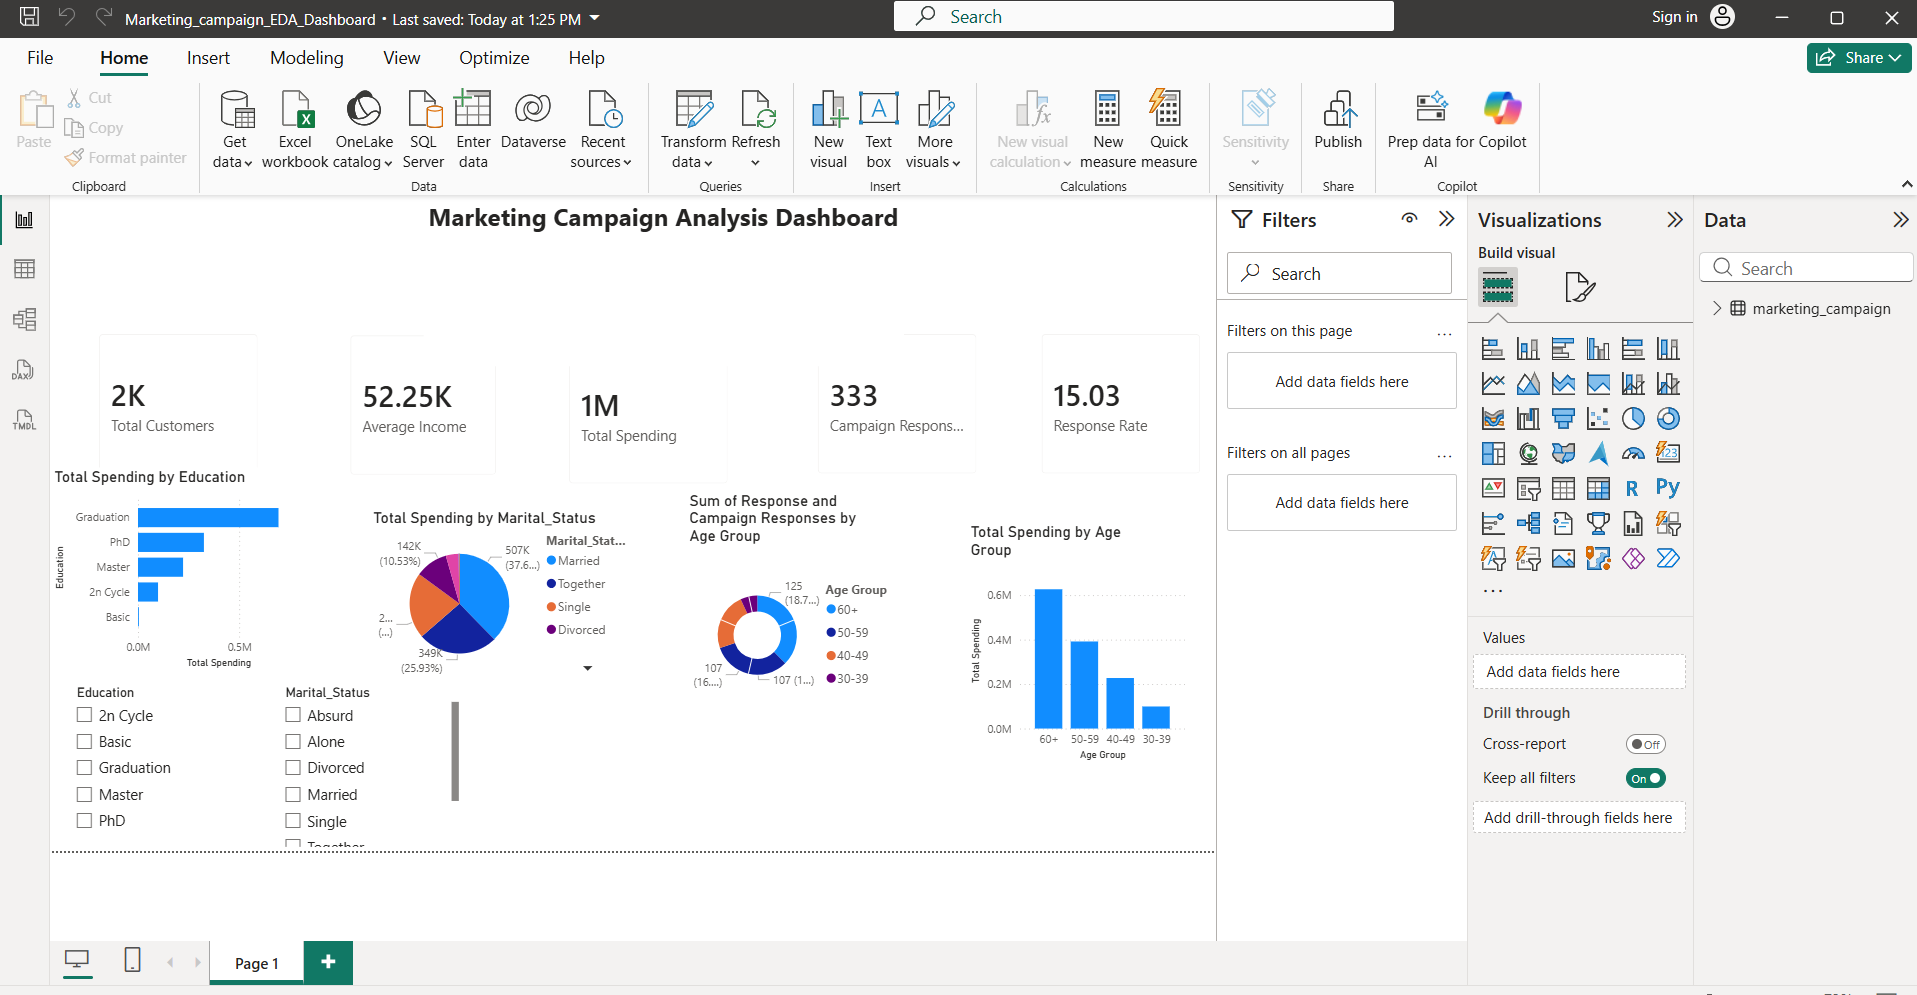

The page's visual inventory and layout, read from the dashboard file:
{"tool":"powerbi","page":{"name":"Page 1","canvas":[1280,720],"ordinal":0},"visuals":[{"type":"cardVisual","fields":{"Data":["marketing_campaign.Total Customers"]},"box":[37,135.8,208.6,188],"z":0},{"type":"cardVisual","fields":{"Data":["marketing_campaign.Average Income"]},"box":[312.9,137.2,194.9,188],"z":1000},{"type":"cardVisual","fields":{"Data":["marketing_campaign.Total Spending"]},"box":[553,146.8,208.6,188],"z":2000},{"type":"cardVisual","fields":{"Data":["marketing_campaign.Campaign Responses"]},"box":[826.1,135.8,208.6,188],"z":3000},{"type":"cardVisual","fields":{"Data":["marketing_campaign.Response Rate"]},"box":[1071.7,135.8,208.6,188],"z":4000},{"type":"clusteredBarChart","fields":{"Category":["marketing_campaign.Education"],"Y":["marketing_campaign.Total Spending"]},"box":[0,299.1,293.7,225],"z":5000},{"type":"pieChart","fields":{"Category":["marketing_campaign.Marital_Status"],"Y":["marketing_campaign.Total Spending"]},"box":[349.9,344.4,289.5,188],"z":6000},{"type":"clusteredColumnChart","fields":{"Category":["marketing_campaign.Age Group"],"Y":["marketing_campaign.Total Spending"]},"box":[1005.8,359.5,245.6,266.2],"z":7000},{"type":"donutChart","fields":{"Category":["marketing_campaign.Age Group"],"Y":["Sum(marketing_campaign.Response)","marketing_campaign.Campaign Responses"]},"box":[697.1,325.2,240.1,253.9],"z":8000},{"type":"slicer","fields":{"Values":["marketing_campaign.Marital_Status"]},"box":[245.6,532.4,208.6,188],"z":9000},{"type":"slicer","fields":{"Values":["marketing_campaign.Education"]},"box":[16.5,532.4,208.6,188],"z":10000},{"type":"textbox","box":[410.3,0,526.9,188],"z":11000}]}

Visuals, with their boxes on the page's 1280x720 design canvas (x1, y1, x2, y2). These are canvas units, not pixel positions in the 1917x995 screenshot, which may show the page scaled, cropped or inside an application window:
cardVisual - marketing_campaign.Total Customers: 37/136/246/324
cardVisual - marketing_campaign.Average Income: 313/137/508/325
cardVisual - marketing_campaign.Total Spending: 553/147/762/335
cardVisual - marketing_campaign.Campaign Responses: 826/136/1035/324
cardVisual - marketing_campaign.Response Rate: 1072/136/1280/324
clusteredBarChart - marketing_campaign.Education x marketing_campaign.Total Spending: 0/299/294/524
pieChart - marketing_campaign.Marital_Status x marketing_campaign.Total Spending: 350/344/639/532
clusteredColumnChart - marketing_campaign.Age Group x marketing_campaign.Total Spending: 1006/360/1251/626
donutChart - marketing_campaign.Age Group x Sum(marketing_campaign.Response): 697/325/937/579
slicer - marketing_campaign.Marital_Status: 246/532/454/720
slicer - marketing_campaign.Education: 16/532/225/720
textbox: 410/0/937/188
